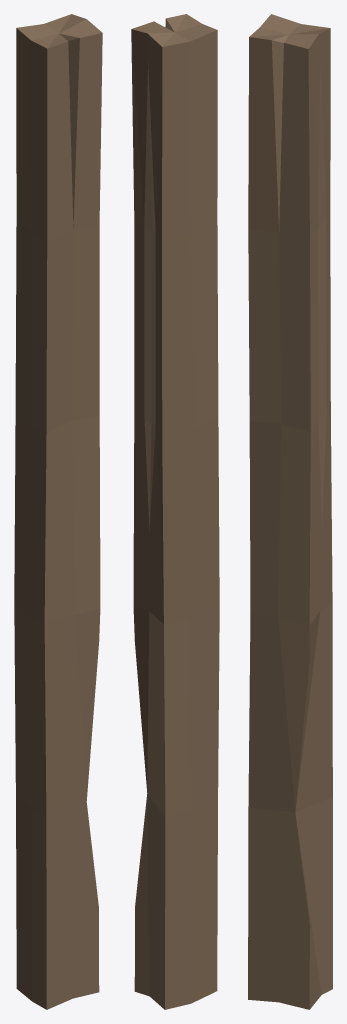
Rendered from beam_03.fbx.
3 renders of one model, left to right at view 1: azimuth 30°, elevation 25°; view 2: azimuth 210°, elevation 25°; view 3: azimuth 330°, elevation 25°, orthographic.
Visible parts, largest first — view 1: beam_03; view 2: beam_03; view 3: beam_03.
Boxes of the visible parts, x1,y1,x2,y2 form: beam_03: [14, 14, 102, 1009]; beam_03: [131, 14, 219, 1009]; beam_03: [248, 14, 332, 1009].
Bounding box in the file's own units: 12.58 × 188 × 11.09.
Materials: 1 (1 with a texture image).
